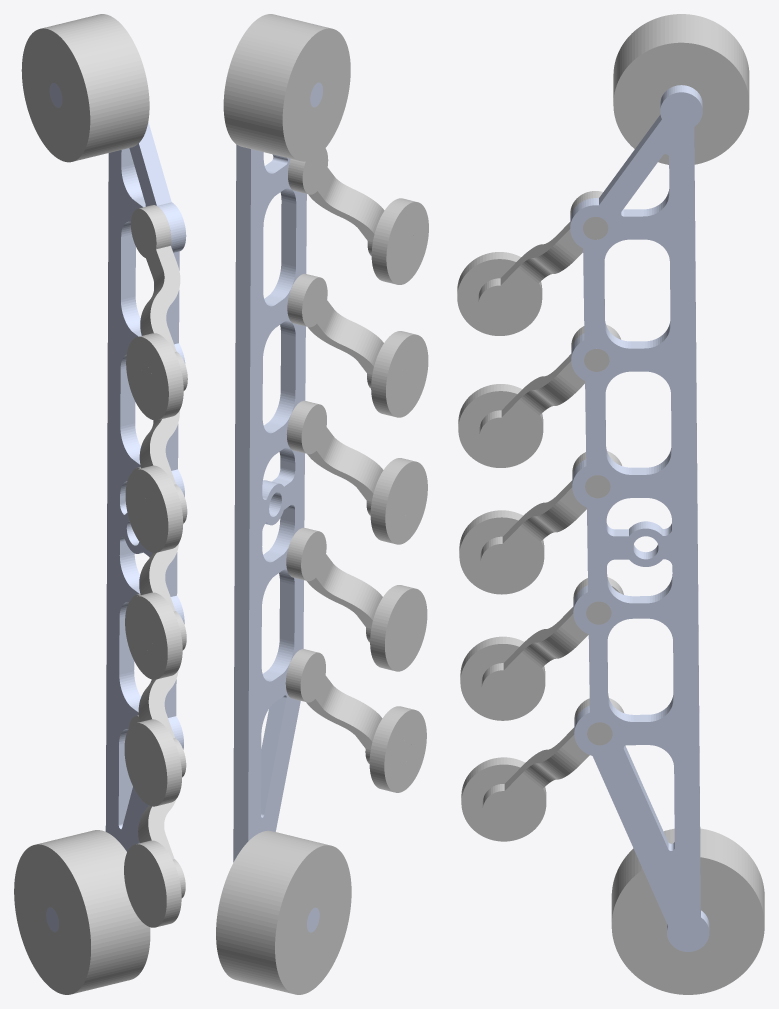
File: SubensambleDerecho.dae
3 views of the same model, side by side, from view 1: azimuth 30°, elevation 25°; view 2: azimuth 150°, elevation 25°; view 3: azimuth 270°, elevation 25° (orthographic).
Visible parts, largest first — view 1: Perfil_DerechoV1.1, Rueda_ResorteV1.0 (×5), Rueda_TraseraV1.0, Rueda_FrenteV1.0, Pieza_ResorteV1.3 (×5); view 2: Perfil_DerechoV1.1, Pieza_ResorteV1.3 (×5), Rueda_ResorteV1.0 (×5), Rueda_TraseraV1.0, Rueda_FrenteV1.0; view 3: Perfil_DerechoV1.1, Pieza_ResorteV1.3 (×5), Rueda_ResorteV1.0 (×5), Rueda_TraseraV1.0, Rueda_FrenteV1.0.
Part boxes in pixels (left/top/right/bottom): Perfil_DerechoV1.1: left=46, top=83, right=186, bottom=932; Rueda_ResorteV1.0 (×5): left=124, top=333, right=183, bottom=927; Rueda_TraseraV1.0: left=14, top=830, right=150, bottom=994; Rueda_FrenteV1.0: left=21, top=14, right=149, bottom=162; Pieza_ResorteV1.3 (×5): left=129, top=205, right=187, bottom=898; Perfil_DerechoV1.1: left=233, top=82, right=322, bottom=932; Pieza_ResorteV1.3 (×5): left=285, top=148, right=413, bottom=763; Rueda_ResorteV1.0 (×5): left=369, top=198, right=428, bottom=792; Rueda_TraseraV1.0: left=216, top=830, right=351, bottom=994; Rueda_FrenteV1.0: left=223, top=14, right=350, bottom=161; Perfil_DerechoV1.1: left=570, top=85, right=709, bottom=951; Pieza_ResorteV1.3 (×5): left=478, top=191, right=623, bottom=829; Rueda_ResorteV1.0 (×5): left=457, top=252, right=546, bottom=841; Rueda_TraseraV1.0: left=611, top=828, right=764, bottom=994; Rueda_FrenteV1.0: left=613, top=14, right=749, bottom=164.
Bounding box in the file's own units: 0.05 × 0.1808 × 0.6179.
